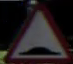Speed Breaker ahead: (7, 5, 62, 56)
